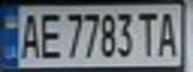3: (115, 9, 139, 58)
7: (60, 9, 84, 60), (81, 9, 100, 60)
8: (100, 9, 118, 58)
A: (15, 9, 42, 61), (154, 7, 181, 58)
E: (36, 9, 63, 61)
T: (136, 8, 160, 59)
